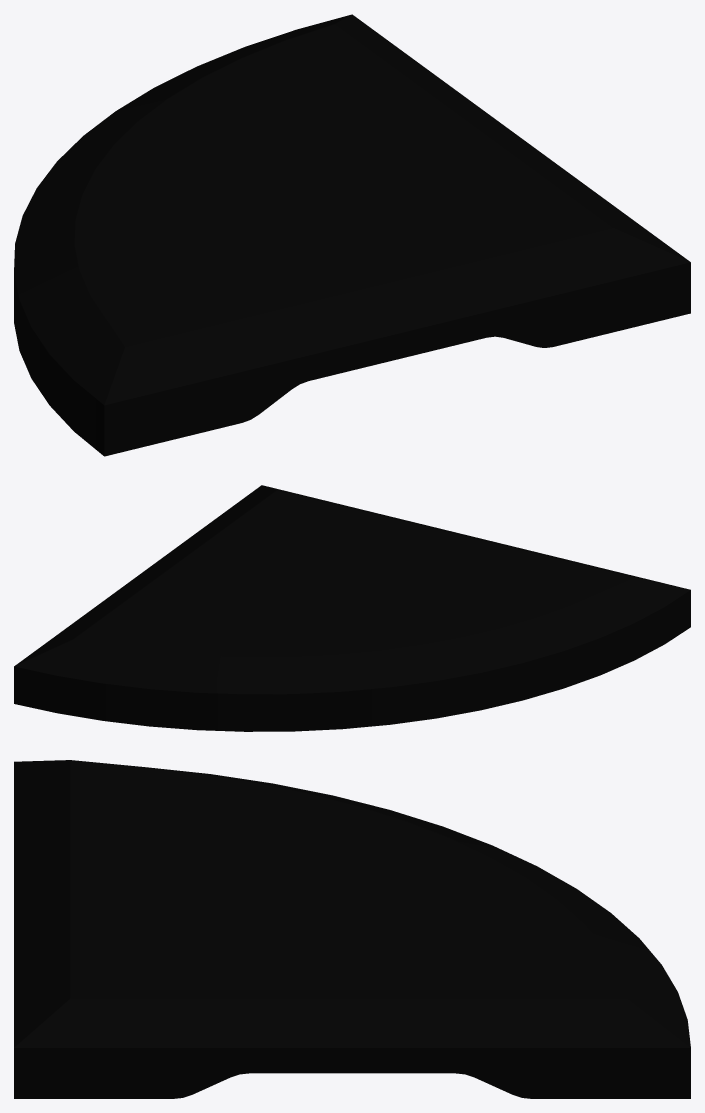
Rendered from Roof_Turn_Top_01.FBX.
3 views of the same model, one above another, from view 1: azimuth 30°, elevation 25°; view 2: azimuth 150°, elevation 25°; view 3: azimuth 270°, elevation 25° (orthographic). The views are drawn at different scales.
Visible parts, largest first — view 1: Roof_Turn_Top_01; view 2: Roof_Turn_Top_01; view 3: Roof_Turn_Top_01.
Part boxes in pixels (left/top/right/bottom): Roof_Turn_Top_01: left=14, top=14, right=690, bottom=456; Roof_Turn_Top_01: left=14, top=485, right=690, bottom=731; Roof_Turn_Top_01: left=14, top=760, right=690, bottom=1098.
Size of the model in its own units: 6 by 0.75 by 6.
